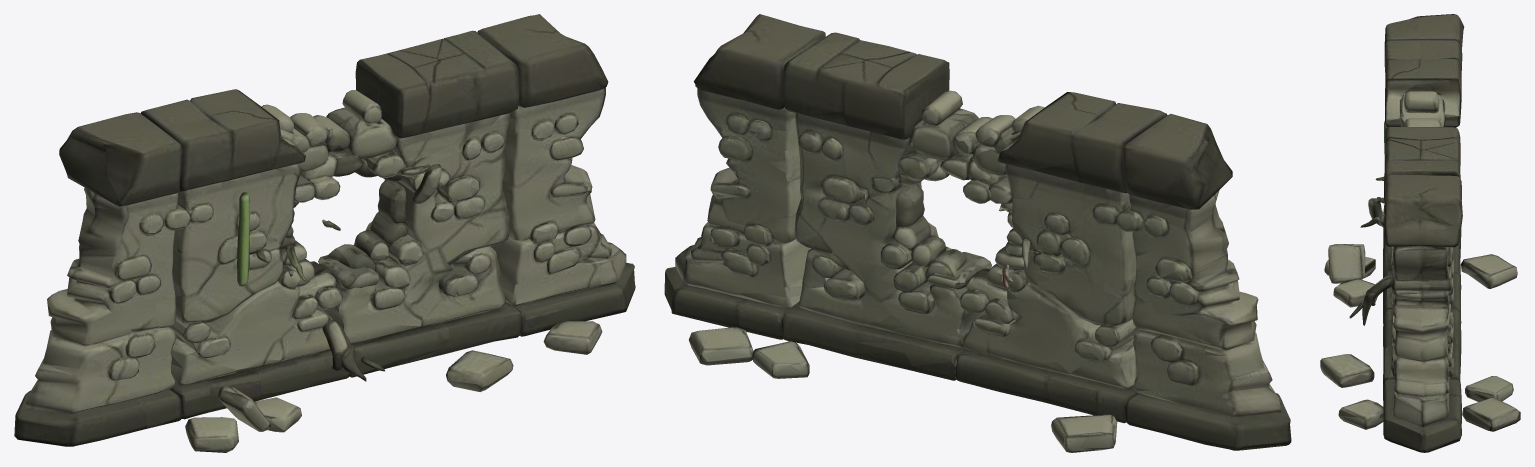
File: jd_muro_ruina.glb
3 renders of one model, left to right at view 1: azimuth 30°, elevation 25°; view 2: azimuth 150°, elevation 25°; view 3: azimuth 270°, elevation 25°, orthographic. The views are drawn at different scales.
Visible parts, largest first — view 1: mesh_node; view 2: mesh_node; view 3: mesh_node.
Part boxes in pixels (x1,y1,x2,y2): mesh_node: [14, 14, 635, 452]; mesh_node: [664, 14, 1291, 452]; mesh_node: [1320, 14, 1520, 452].
Bounding box in the file's own units: 1 × 0.4453 × 0.3457.
Materials: 1 (1 with a texture image).
